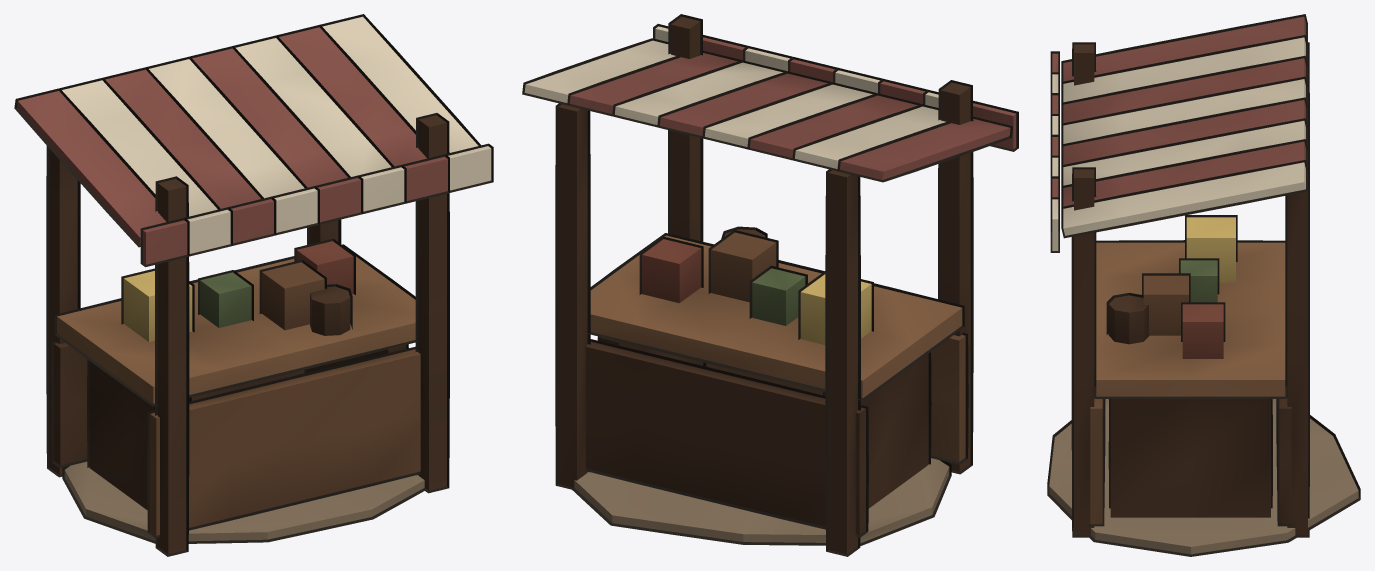
Rendered from etal_marche.glb.
3 renders of one model, left to right at view 1: azimuth 30°, elevation 25°; view 2: azimuth 150°, elevation 25°; view 3: azimuth 270°, elevation 25°, orthographic. The views are drawn at different scales.
Parts seen in each view (by area): view 1: etal_marche, etal_marche_outline; view 2: etal_marche, etal_marche_outline; view 3: etal_marche, etal_marche_outline.
Part boxes in pixels (box(x1,y1,x2,y2)): etal_marche: box(17, 16, 491, 554); etal_marche_outline: box(14, 14, 493, 556); etal_marche: box(524, 16, 1016, 554); etal_marche_outline: box(522, 14, 1018, 556); etal_marche: box(1049, 16, 1358, 554); etal_marche_outline: box(1047, 14, 1360, 556).
Size of the model in its own units: 1.96 by 2 by 1.53.
